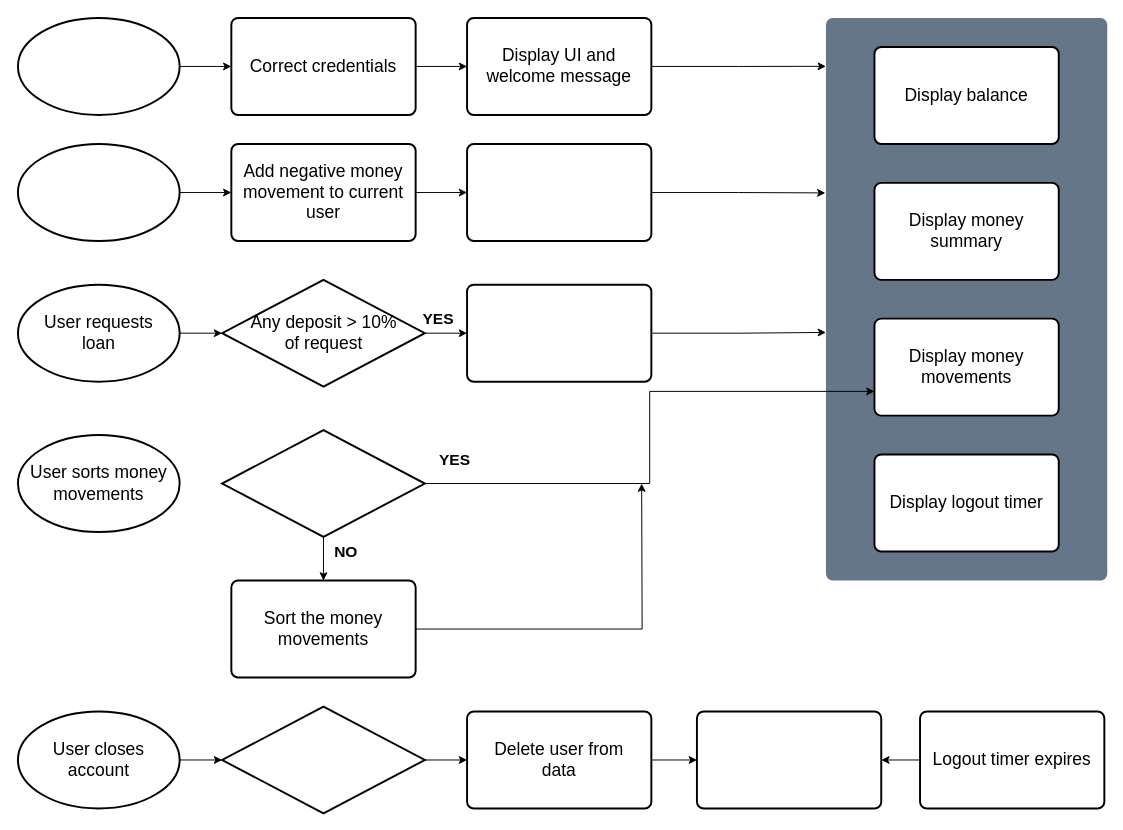
This 1123x830 diagram has some shape labels left out. The shapes that lost their labels are listed below. From the top down, each one's centre as x and y in pixels, then its label:
At (x=98, y=65): "User logs in".
At (x=98, y=192): "User transfers".
At (x=559, y=192): "Add positive money movement to recipient".
At (x=559, y=332): "Add positive money movement to current user".
At (x=323, y=483): "Already sorted".
At (x=323, y=759): "Correct credentials ?".
At (x=788, y=759): "Log user out (hide UI)".
